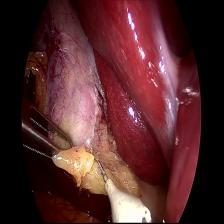Grasper: (18, 94, 75, 166)
Hook: (95, 158, 147, 224)
